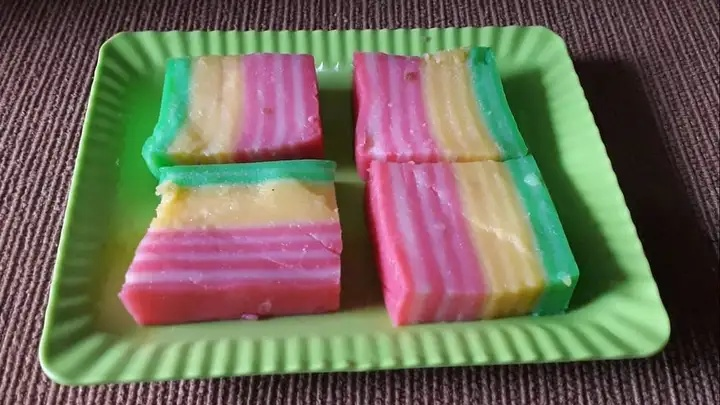kue_lapis_pelangi: (119, 161, 344, 328), (364, 163, 580, 321), (355, 44, 528, 169), (137, 55, 323, 158)
